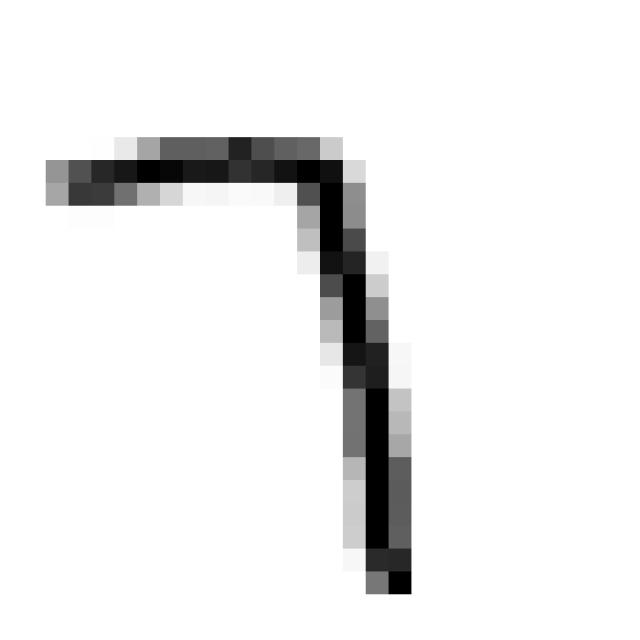6 -six-: (30, 121, 439, 611)
